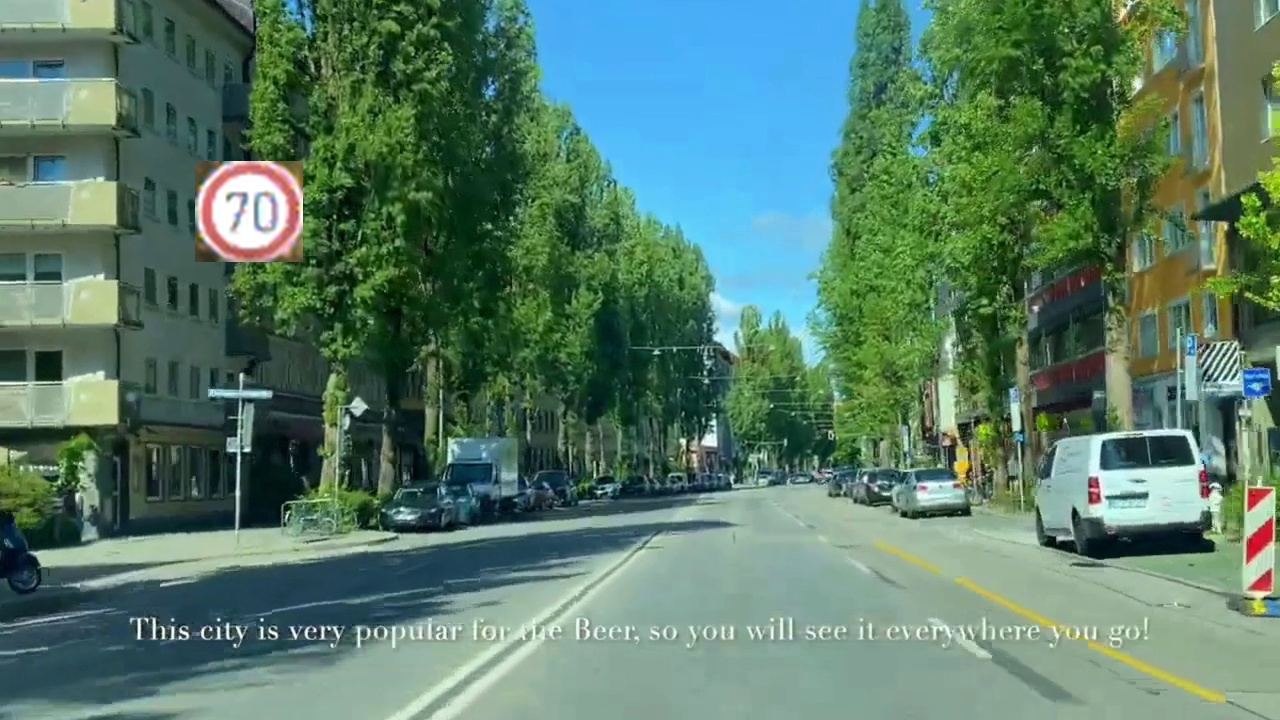Speed 70: (195, 161, 303, 262)
